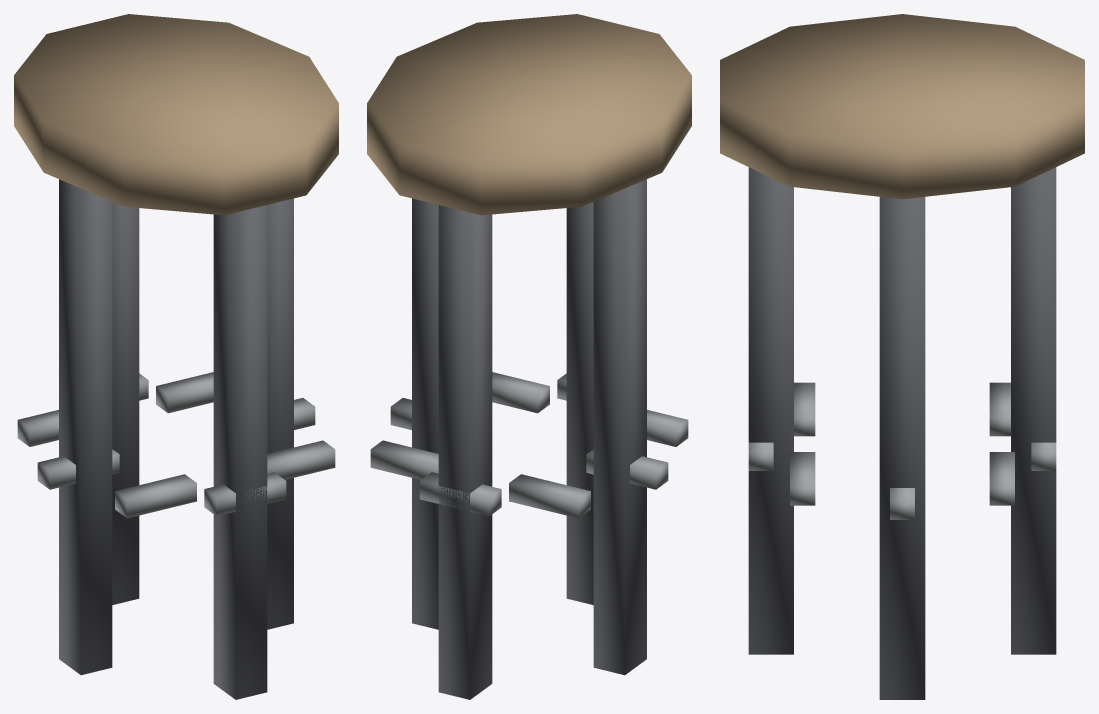
File: bar_stool__deep.glb
3 renders of one model, left to right at view 1: azimuth 30°, elevation 25°; view 2: azimuth 150°, elevation 25°; view 3: azimuth 270°, elevation 25°, orthographic. The views are drawn at different scales.
Parts seen in each view (by area): view 1: world; view 2: world; view 3: world.
Boxes of the visible parts, x1,y1,x2,y2 form: world: (14,14,338,699); world: (367,14,691,699); world: (720,14,1084,699).
Size of the model in its own units: 0.38 by 0.755 by 0.4409.
